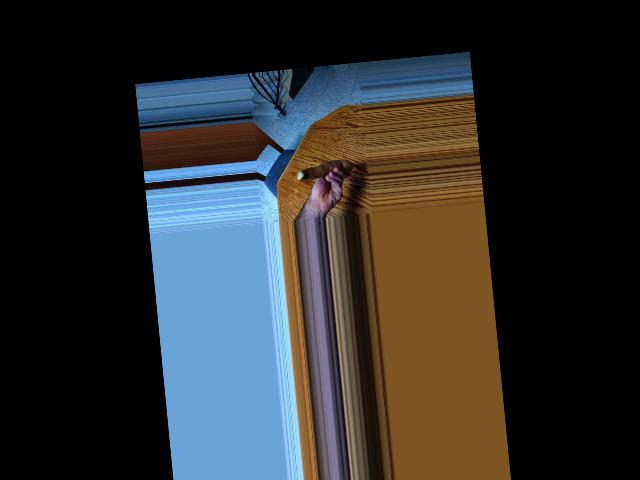sweet_potato: (297, 156, 354, 186)
